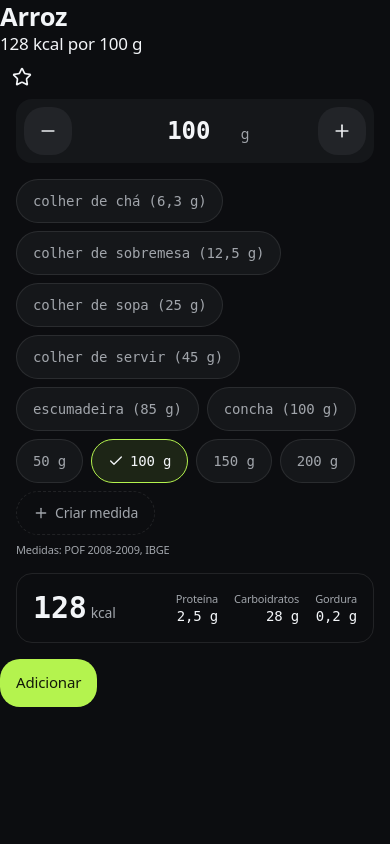
Scenario: PortionSheet household measures › in pt-BR › still inflects a suggested label
Click the button "colher de servir (45 g)".
click(128, 357)  # box [16,335,240,379]
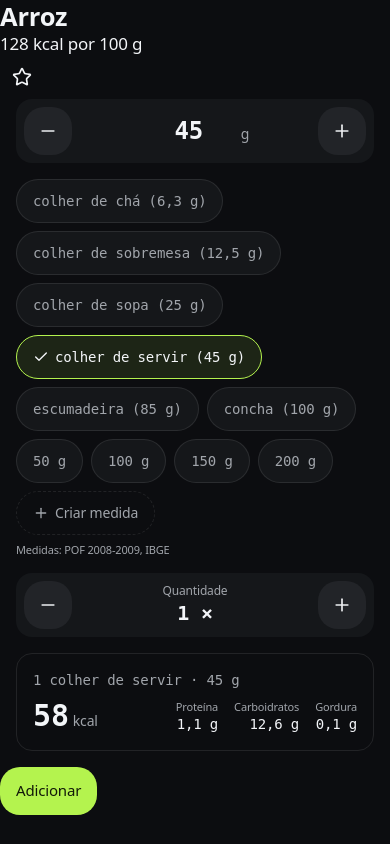
Check: the text with test id "portion-measure" reads "1 colher de servir · 45 g", box [33,672,240,688]
Click the button named "Meia medida a mais".
click(342, 605)  # box [318,581,366,629]
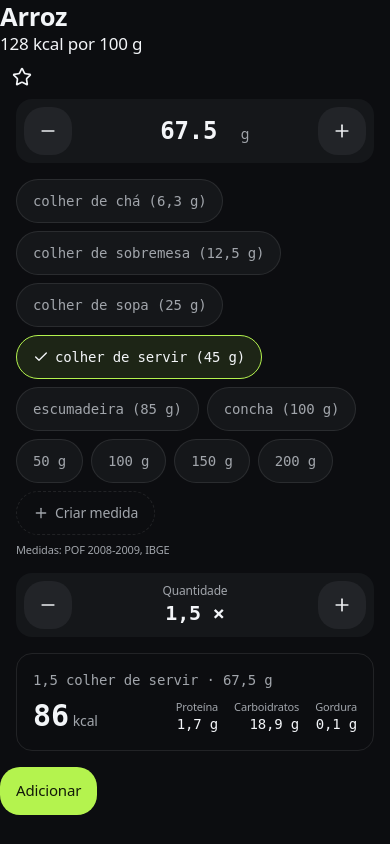
Click the button named "Meia medida a mais".
click(342, 605)  # box [318,581,366,629]
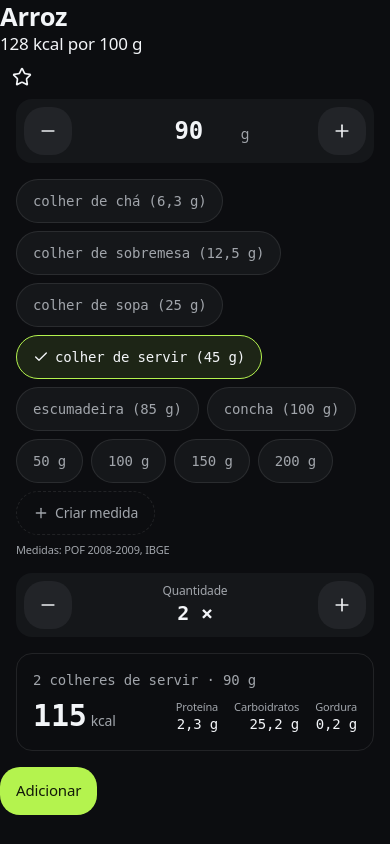
Check: the text with test id "portion-measure" reads "2 colheres de servir · 90 g", box [33,672,256,688]
